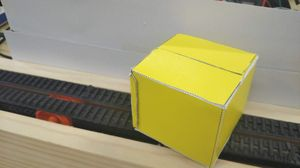box4: (127, 33, 258, 166)
